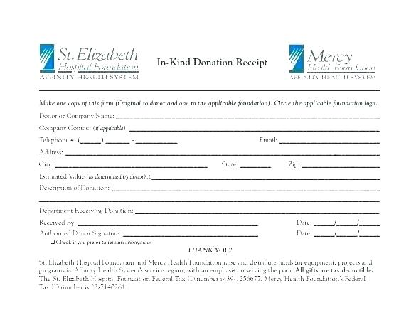checkbox: (49, 238, 56, 245)
textline: (36, 193, 382, 204), (115, 108, 382, 122), (63, 146, 382, 157), (110, 181, 383, 193), (128, 122, 383, 133), (133, 204, 382, 215), (151, 172, 382, 182), (75, 216, 260, 228), (53, 158, 210, 170), (121, 229, 261, 238), (299, 157, 382, 170), (78, 135, 180, 145), (278, 136, 383, 145), (312, 218, 382, 228), (312, 229, 383, 238), (238, 157, 273, 170), (134, 136, 179, 144), (336, 218, 358, 228), (360, 218, 381, 228), (105, 136, 131, 144), (314, 218, 334, 228), (337, 229, 358, 238), (360, 230, 382, 238), (313, 230, 334, 238), (80, 137, 100, 145)
